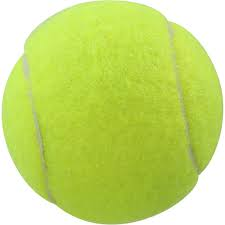tennis ball: (5, 2, 223, 225)
